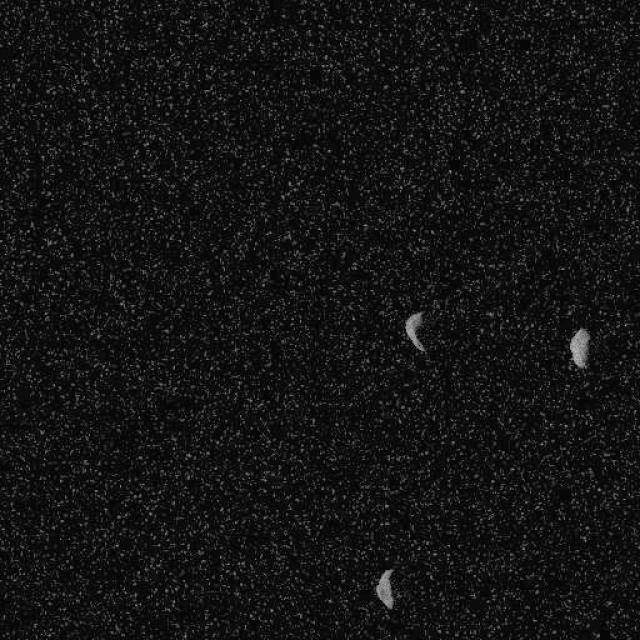D2: (403, 310, 428, 354), (568, 326, 590, 369), (374, 568, 396, 610)
